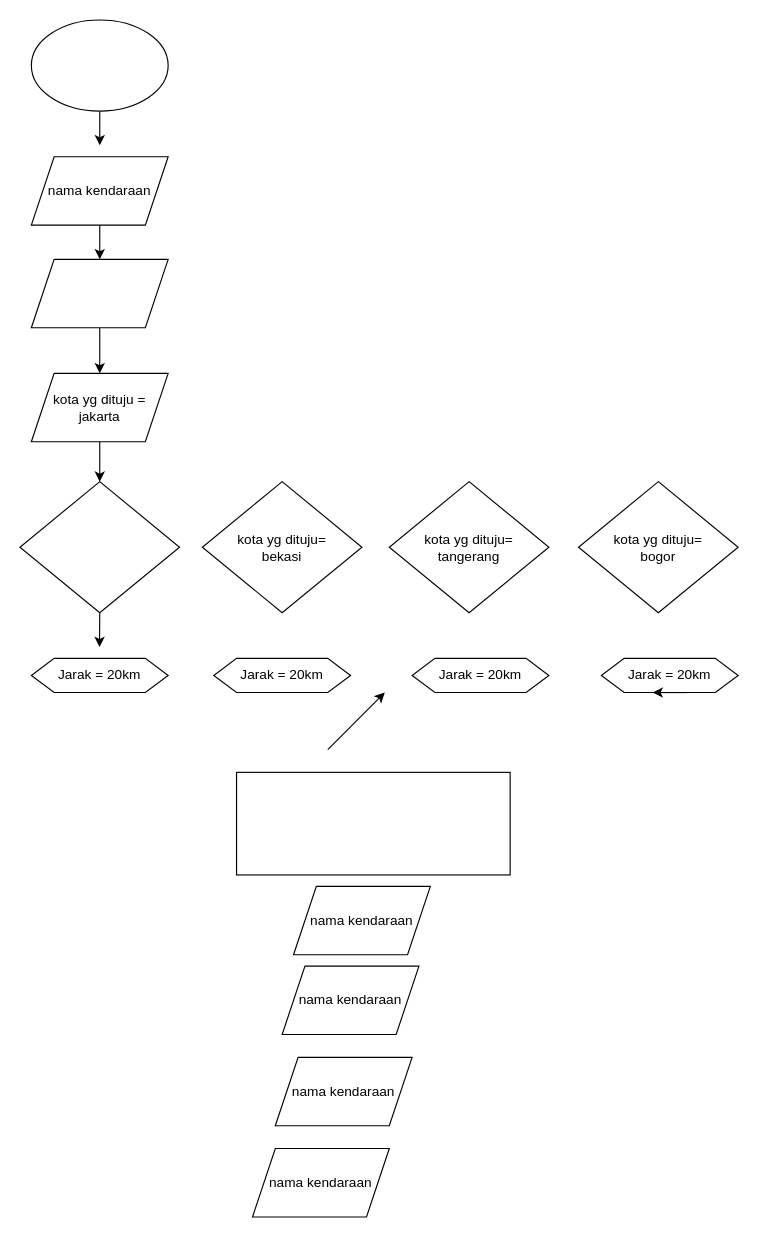
Image size: 758x1237. Some labels were removed from this diagram. The shapes that lost their labels are listed below. From the top down, each one's centre as x and y in pixels, then its label:
At [99,65]: "Start".
At [99,293]: "jenis bensin".
At [99,547]: "kota yg dituju= jakartafor".
At [372,823]: "pemakaian bensin = jarak /jarak tempuh total harga = pemakaian bensin* harga".
